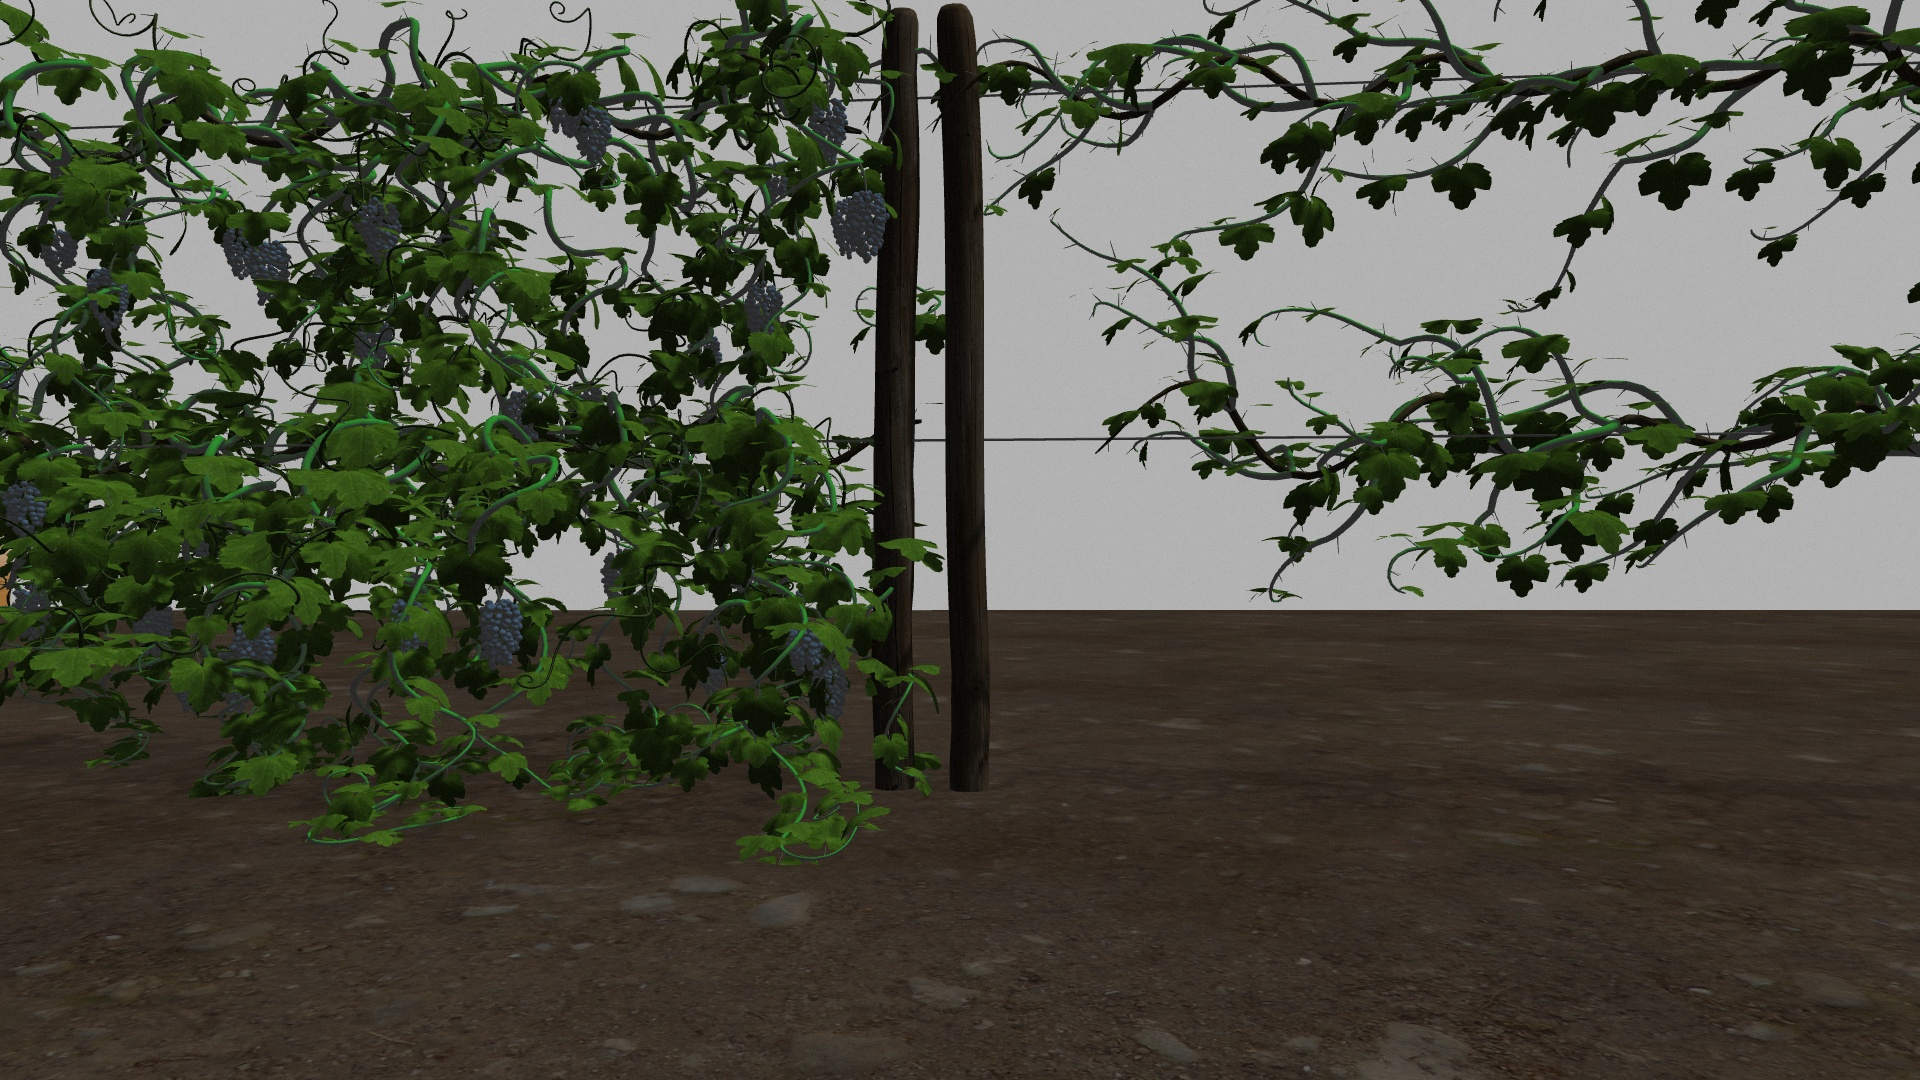grape: (475, 597, 525, 670), (355, 198, 404, 266), (851, 189, 890, 262), (248, 243, 291, 305), (570, 105, 613, 165), (86, 270, 131, 327), (810, 99, 847, 164), (5, 484, 47, 535), (742, 285, 783, 334), (232, 625, 276, 670), (218, 228, 255, 280), (786, 628, 824, 676), (41, 229, 79, 276), (829, 199, 857, 261), (818, 667, 851, 719)
